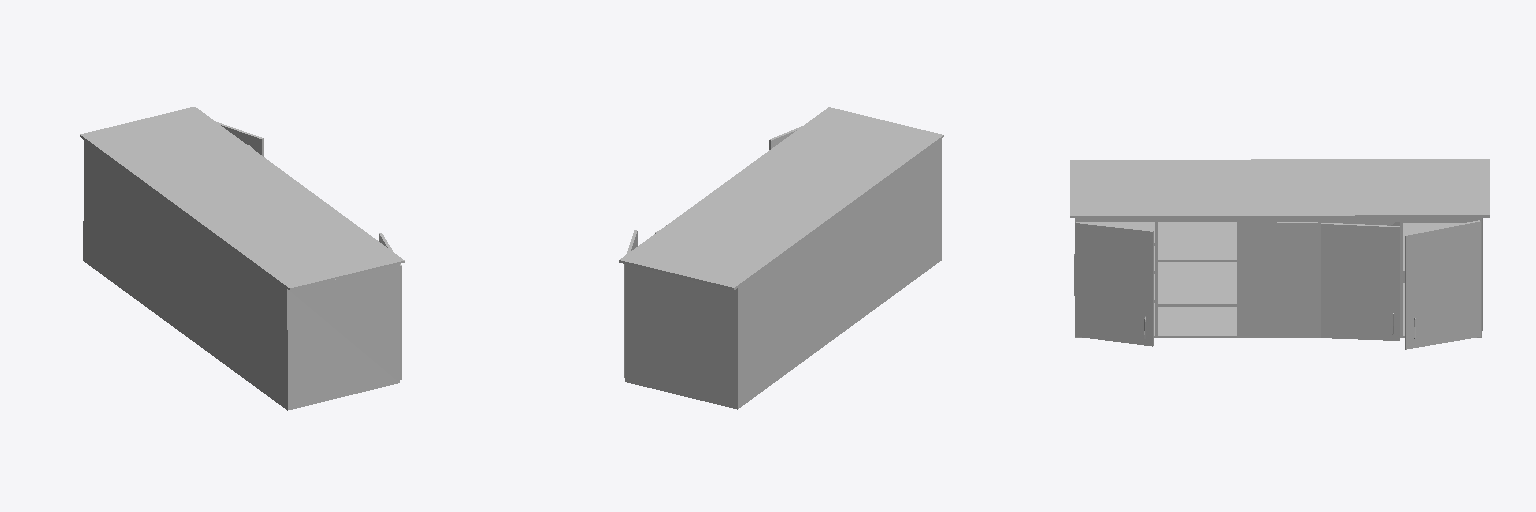
File: Kitchen01_shelf.obj
The picture shows the model from 3 angles: view 1: azimuth 30°, elevation 25°; view 2: azimuth 150°, elevation 25°; view 3: azimuth 270°, elevation 25°; orthographic projection.
Visible parts, largest first — view 1: Kitchen_Shelf01_LOD0_Kitchen.001; view 2: Kitchen_Shelf01_LOD0_Kitchen.001; view 3: Kitchen_Shelf01_LOD0_Kitchen.001.
Boxes of the visible parts, box(x1,y1,x2,y2) form: Kitchen_Shelf01_LOD0_Kitchen.001: box(80, 107, 404, 410); Kitchen_Shelf01_LOD0_Kitchen.001: box(619, 107, 943, 409); Kitchen_Shelf01_LOD0_Kitchen.001: box(1070, 159, 1489, 349).
Size of the model in its own units: 1.02 by 0.8509 by 2.61.